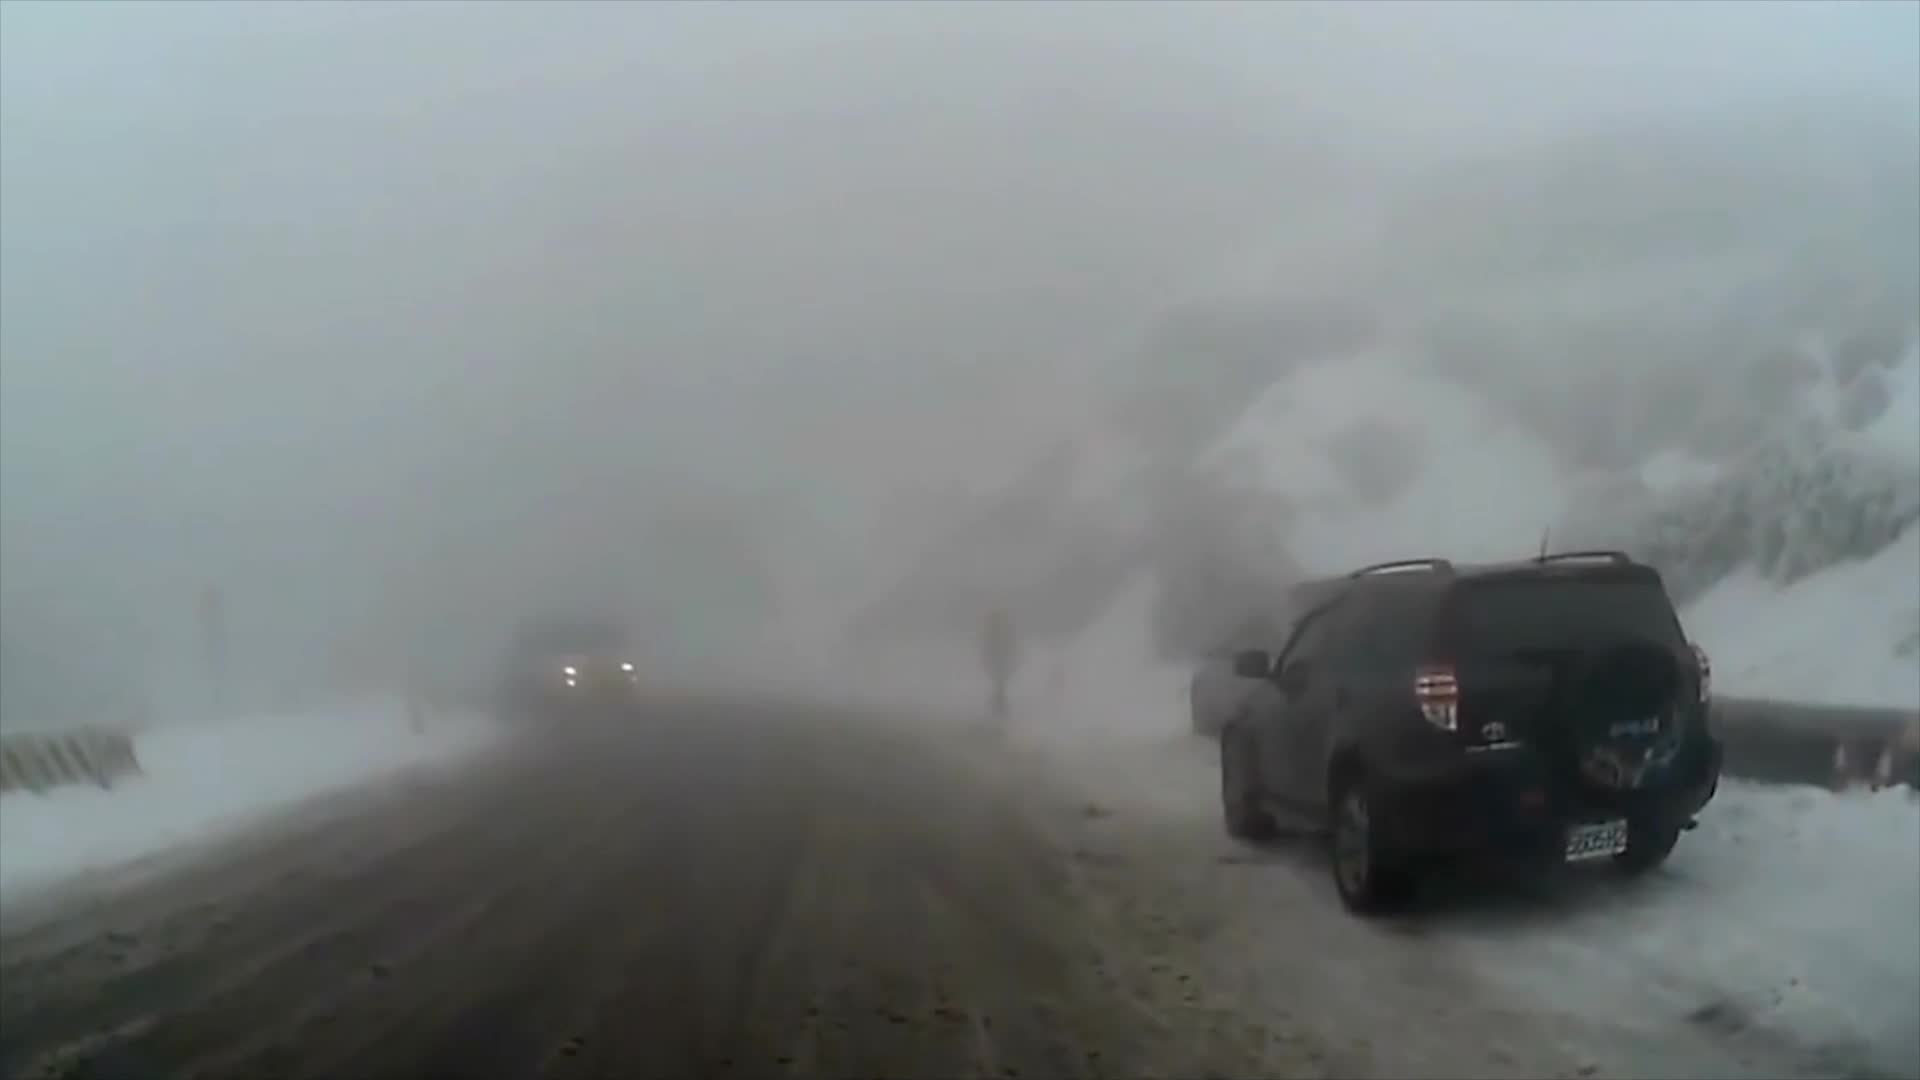vehicle: (1215, 546, 1725, 920), (509, 616, 645, 717)
